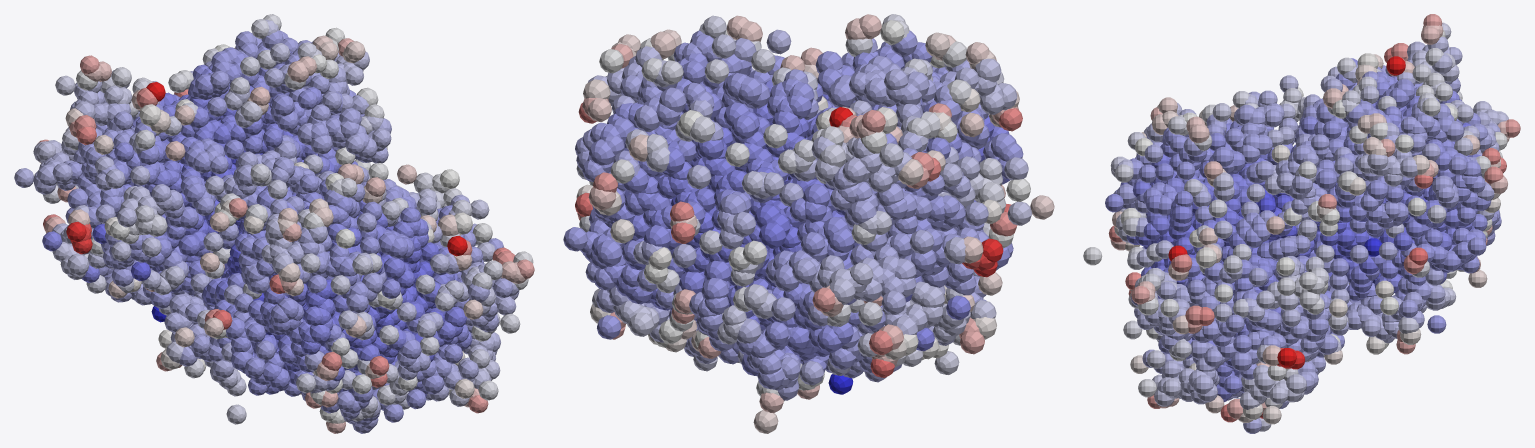
Rendered from 1gfl__spheres__b-factor.glb.
3 renders of one model, left to right at view 1: azimuth 30°, elevation 25°; view 2: azimuth 150°, elevation 25°; view 3: azimuth 270°, elevation 25°, orthographic. The views are drawn at different scales.
Visible parts, largest first — view 1: Renderer Node; view 2: Renderer Node; view 3: Renderer Node.
Boxes of the visible parts, x1=… form: Renderer Node: x1=14, y1=14, x2=534, y2=433; Renderer Node: x1=563, y1=14, x2=1054, y2=433; Renderer Node: x1=1083, y1=14, x2=1520, y2=433.
Bounding box in the file's own units: 64.21 × 56.48 × 69.87.
